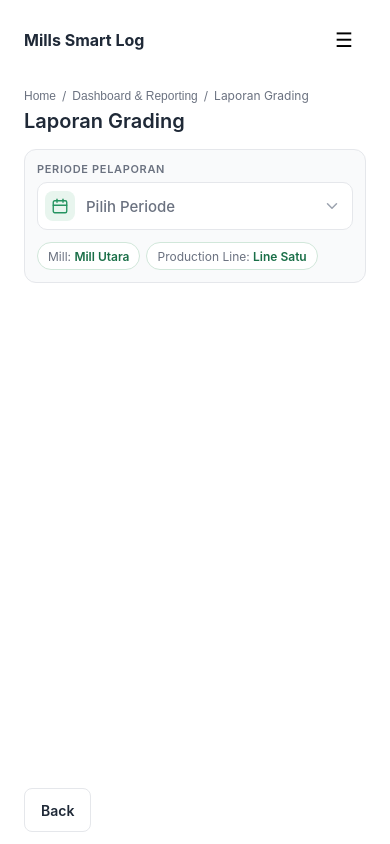
Test case: pangsa, rata-rata, dan penyebutnya › share_percent dan avg_percentage null dirender sebagai keterangan, bukan 0
Select "Grading — Periode September 2026" in the dropdown with test id "period-select": coordinates (195, 206) 37,182 -> 353,230
(page scrolled)
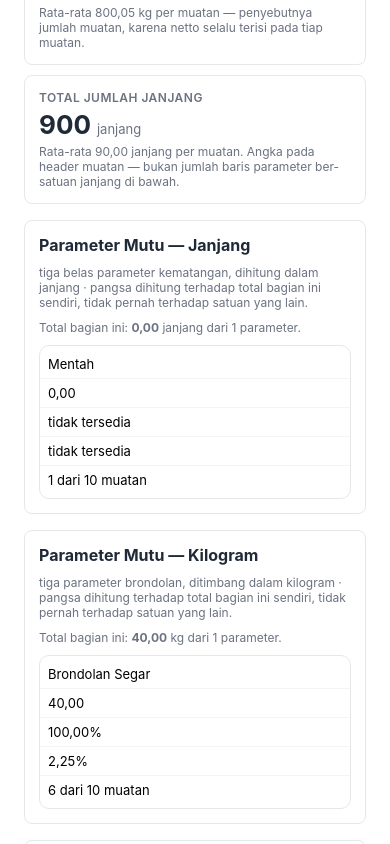
Expected: the element with test id "parameter-bunch-row" does not show "0,00%"
Result: the row with test id "parameter-bunch-row" shows "tidak tersedia" at 48,414 -> 131,430
